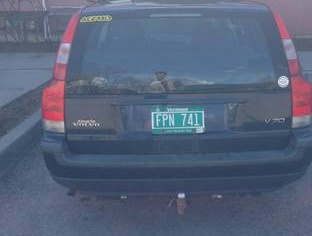volvo: (21, 3, 312, 214)
